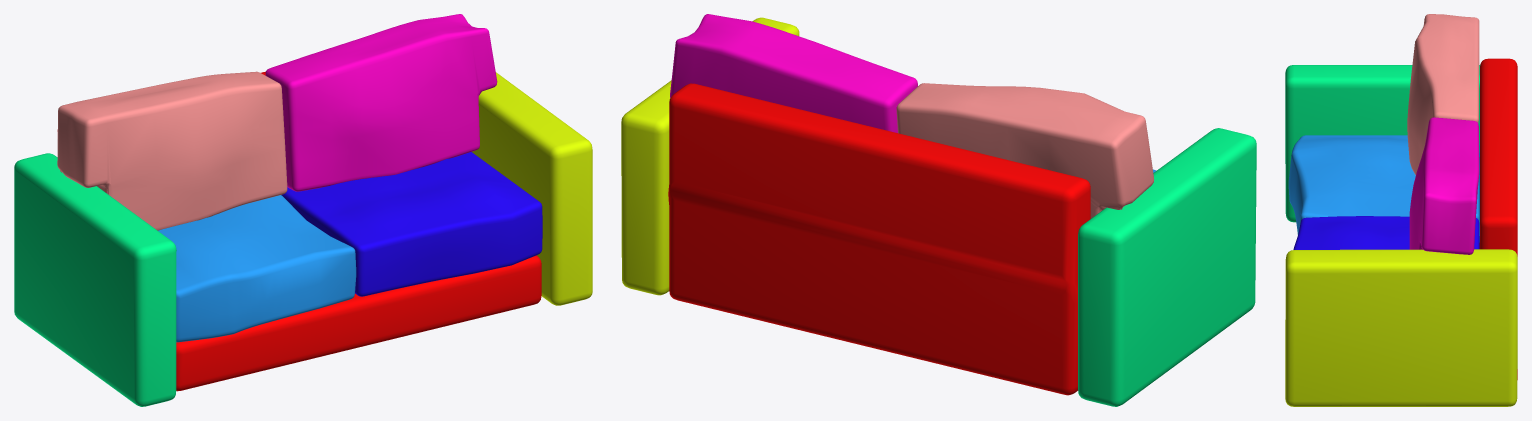
The picture shows the model from 3 angles, left to right: view 1: azimuth 30°, elevation 25°; view 2: azimuth 150°, elevation 25°; view 3: azimuth 270°, elevation 25°; orthographic projection. The views are drawn at different scales.
Parts seen in each view (by area): view 1: Box001; view 2: Box001; view 3: Box001.
Part boxes in pixels (<box>): Box001: <box>14,14,592,406</box>; Box001: <box>621,14,1256,406</box>; Box001: <box>1285,14,1517,406</box>.
Bounding box in the file's own units: 210 × 101 × 102.
